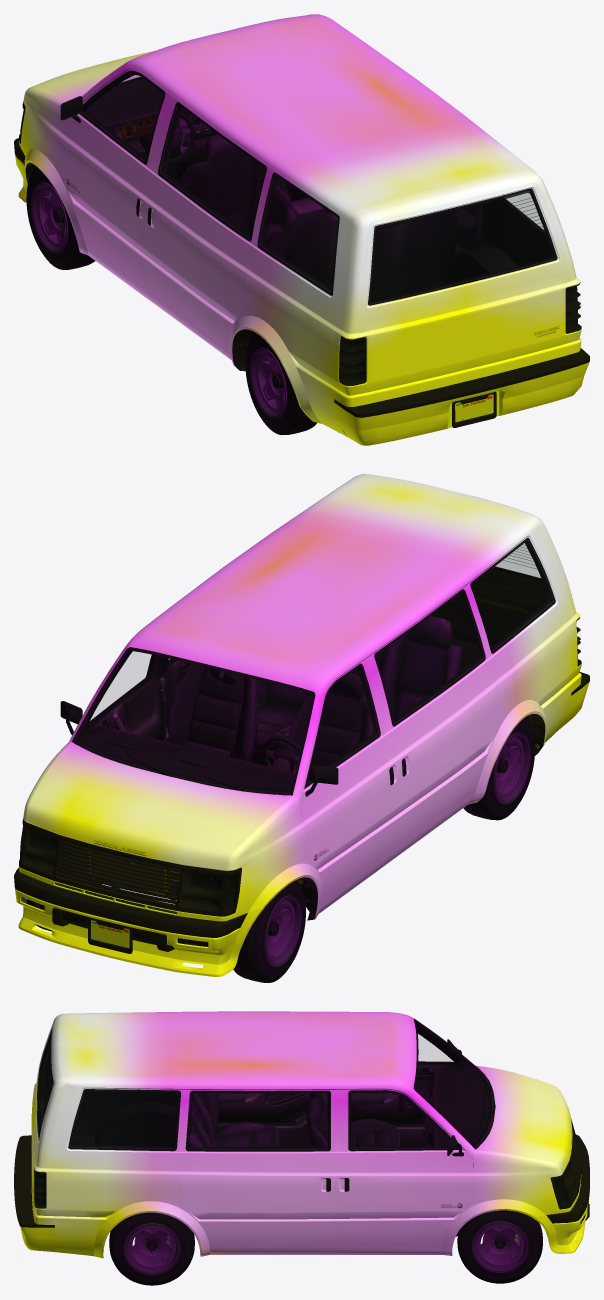
File: moonbeam.glb
The picture shows the model from 3 angles, top to bottom: view 1: azimuth 30°, elevation 25°; view 2: azimuth 150°, elevation 25°; view 3: azimuth 270°, elevation 25°; orthographic projection. The views are drawn at different scales.
Parts seen in each view (by area): view 1: bodyshell, chassis, boot, door_dside_r, windscreen_r, door_dside_f, bumper_r, window_lr, misc_a, wing_lf, wheel_lr, window_lf (+5 smaller); view 2: bodyshell, chassis, bonnet, door_dside_r, bumper_f, door_dside_f, window_lr, wing_lf, misc_a, boot, wheel_lf, window_lf (+5 smaller); view 3: bodyshell, chassis, door_pside_r, door_pside_f, window_rr, bonnet, wing_rf, misc_b, wheel_rf, wheel_rr, window_rf, door_dside_r (+6 smaller).
Part boxes in pixels (bbox=[...]): bodyshell: bbox=[19, 14, 581, 436]; chassis: bbox=[21, 75, 552, 436]; boot: bbox=[359, 182, 569, 391]; door_dside_r: bbox=[144, 98, 270, 352]; windscreen_r: bbox=[369, 190, 555, 303]; door_dside_f: bbox=[60, 70, 173, 293]; bumper_r: bbox=[334, 348, 589, 445]; window_lr: bbox=[161, 106, 264, 237]; misc_a: bbox=[260, 176, 337, 290]; wing_lf: bbox=[19, 88, 88, 255]; wheel_lr: bbox=[245, 332, 316, 435]; window_lf: bbox=[83, 74, 162, 160]; bodyshell: bbox=[19, 474, 581, 921]; chassis: bbox=[23, 540, 557, 945]; bonnet: bbox=[25, 741, 291, 870]; door_dside_r: bbox=[370, 585, 499, 851]; bumper_f: bbox=[14, 867, 263, 976]; door_dside_f: bbox=[300, 656, 399, 900]; window_lr: bbox=[377, 593, 482, 721]; wing_lf: bbox=[219, 795, 323, 921]; misc_a: bbox=[473, 541, 552, 649]; boot: bbox=[410, 567, 548, 647]; wheel_lf: bbox=[233, 880, 305, 982]; window_lf: bbox=[308, 668, 377, 781]; bodyshell: bbox=[31, 1011, 581, 1258]; chassis: bbox=[37, 1020, 572, 1236]; door_pside_r: bbox=[180, 1089, 335, 1246]; door_pside_f: bbox=[335, 1089, 472, 1246]; window_rr: bbox=[188, 1093, 327, 1148]; bonnet: bbox=[476, 1066, 572, 1173]; wing_rf: bbox=[441, 1149, 570, 1255]; misc_b: bbox=[71, 1091, 178, 1147]; wheel_rf: bbox=[457, 1210, 542, 1283]; wheel_rr: bbox=[109, 1212, 194, 1285]; window_rf: bbox=[351, 1093, 448, 1147]; door_dside_r: bbox=[218, 1093, 311, 1147].
Bounding box in the file's own units: 2.11 × 1.85 × 4.87.
Materials: 16 (16 with a texture image).
